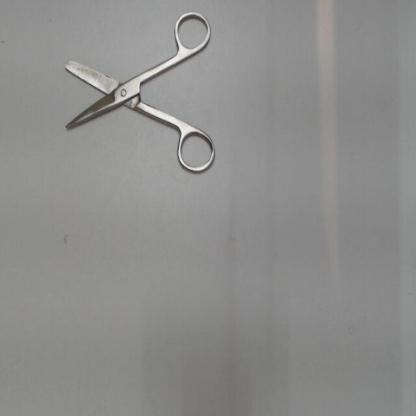Dressing Scissors: (52, 4, 222, 178)
